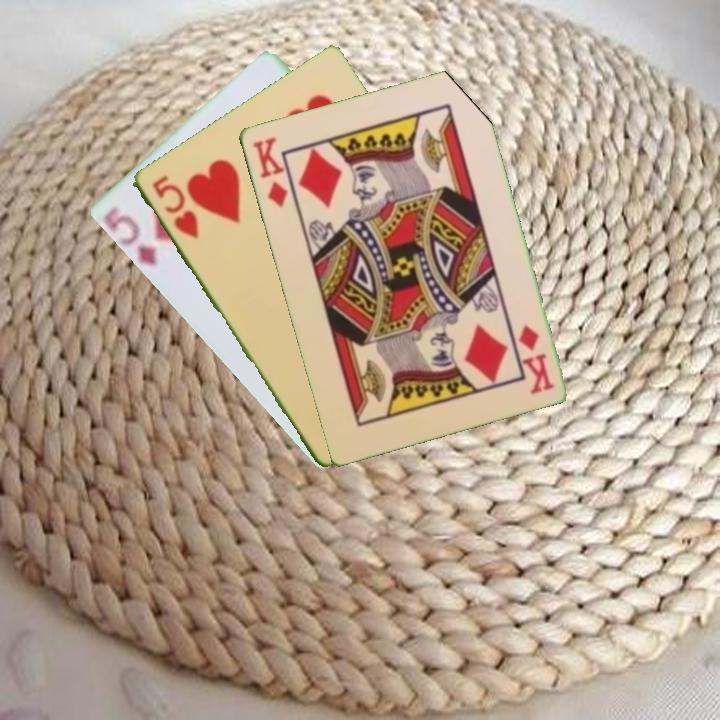5d: (104, 206, 160, 270)
5h: (148, 171, 201, 242)
Kd: (248, 133, 290, 210), (514, 320, 556, 396)
